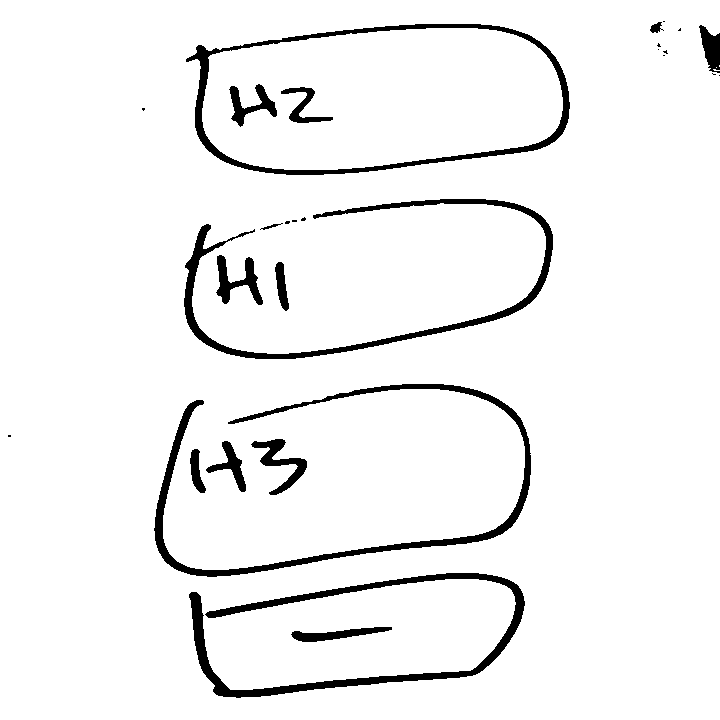button: (175, 569, 530, 701)
heading1: (180, 195, 555, 363)
heading2: (176, 22, 580, 176)
heading3: (144, 382, 532, 572)
